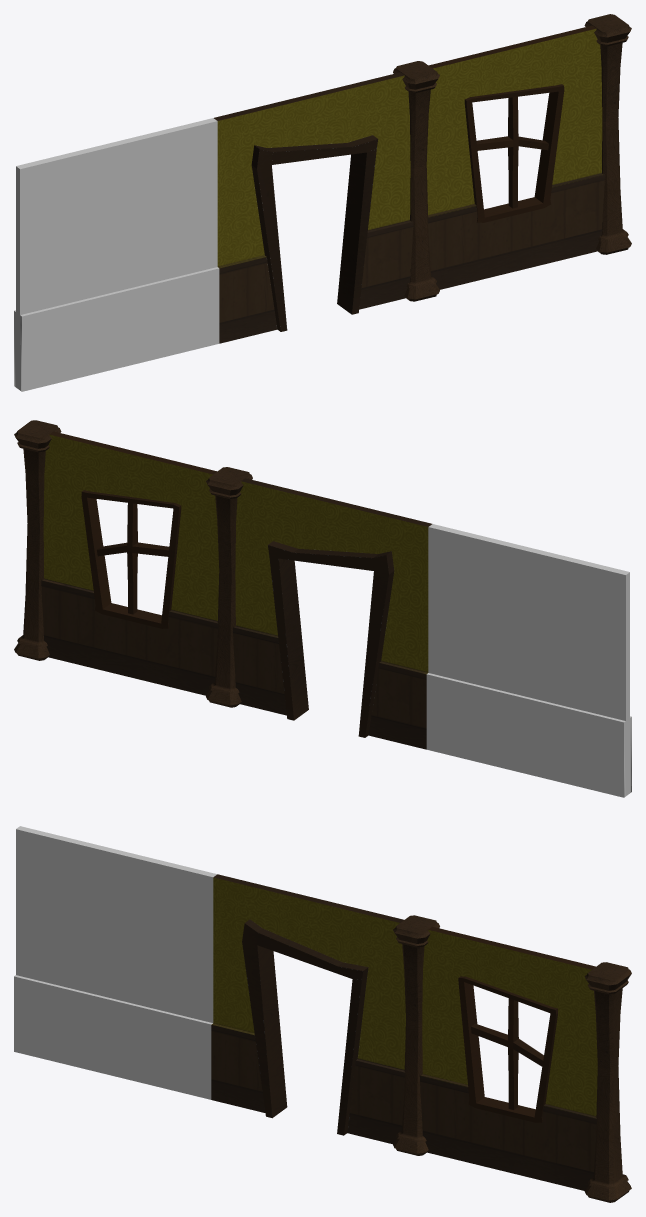
Rendered from ALLWALL.fbx.
3 views of the same model, one above another, from view 1: azimuth 30°, elevation 25°; view 2: azimuth 150°, elevation 25°; view 3: azimuth 330°, elevation 25° (orthographic).
Parts seen in each view (by area): view 1: wall:pCube91, window_obj:pasted__pCube91group36, walldoor_obj:polySurface1pasted__pCube91group35, pillars1:pCube92, pillars2:pCube92; view 2: wall:pCube91, window_obj:pasted__pCube91group36, walldoor_obj:polySurface1pasted__pCube91group35, pillars1:pCube92, pillars2:pCube92; view 3: wall:pCube91, window_obj:pasted__pCube91group36, walldoor_obj:polySurface1pasted__pCube91group35, pillars1:pCube92, pillars2:pCube92.
Part boxes in pixels (x1,y1,x2,y2): wall:pCube91: (14,118,219,391); window_obj:pasted__pCube91group36: (426,25,604,289); walldoor_obj:polySurface1pasted__pCube91group35: (214,72,413,343); pillars1:pCube92: (584,14,631,254); pillars2:pCube92: (393,61,439,301); wall:pCube91: (426,524,631,797); window_obj:pasted__pCube91group36: (41,431,219,695); walldoor_obj:polySurface1pasted__pCube91group35: (233,478,431,749); pillars1:pCube92: (14,420,61,660); pillars2:pCube92: (206,467,252,707); wall:pCube91: (14,826,217,1099); window_obj:pasted__pCube91group36: (419,926,597,1190); walldoor_obj:polySurface1pasted__pCube91group35: (211,874,405,1144); pillars1:pCube92: (584,962,631,1202); pillars2:pCube92: (393,915,439,1155).
Size of the model in its own units: 216 by 75.62 by 13.07.
